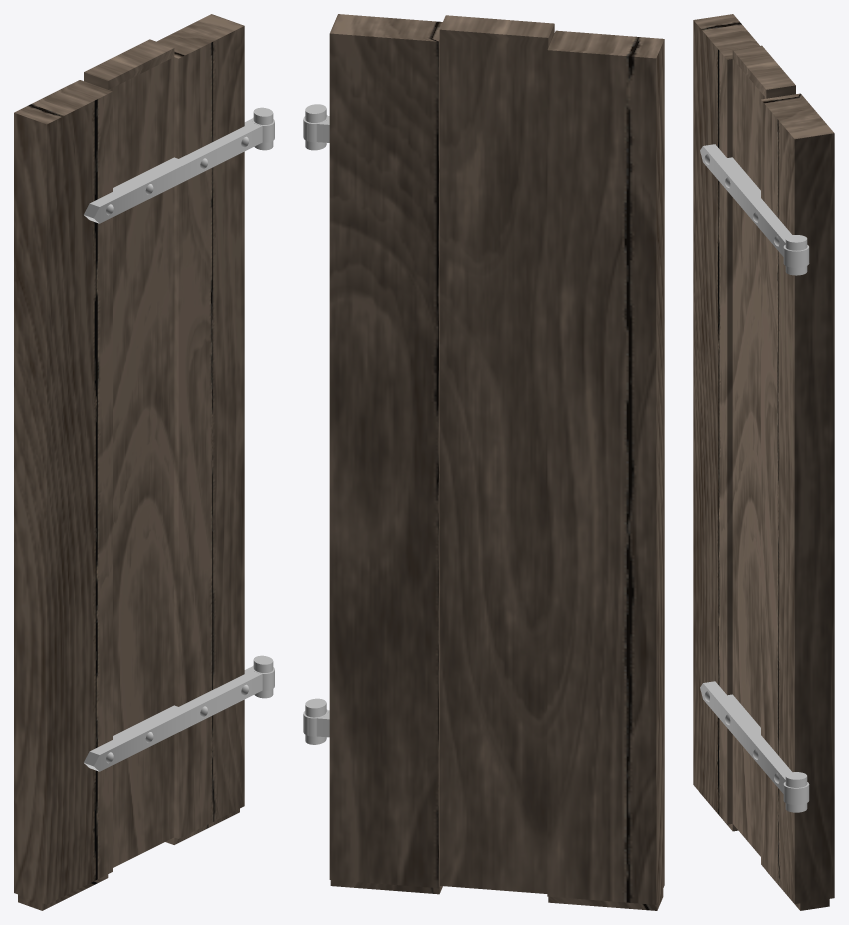
File: SM_Shutter_Right.fbx
3 views of the same model, side by side, from view 1: azimuth 30°, elevation 25°; view 2: azimuth 150°, elevation 25°; view 3: azimuth 270°, elevation 25° (orthographic). The views are drawn at different scales.
Parts seen in each view (by area): view 1: SM_Shutter10; view 2: SM_Shutter10; view 3: SM_Shutter10.
Boxes of the visible parts, left/top/right/bottom form: SM_Shutter10: left=14, top=14, right=274, bottom=910; SM_Shutter10: left=303, top=14, right=664, bottom=910; SM_Shutter10: left=693, top=14, right=834, bottom=910.
Bounding box in the file's own units: 52.67 × 138 × 22.57.
